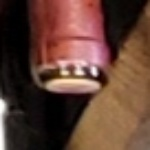bottle: (14, 26, 129, 123)
